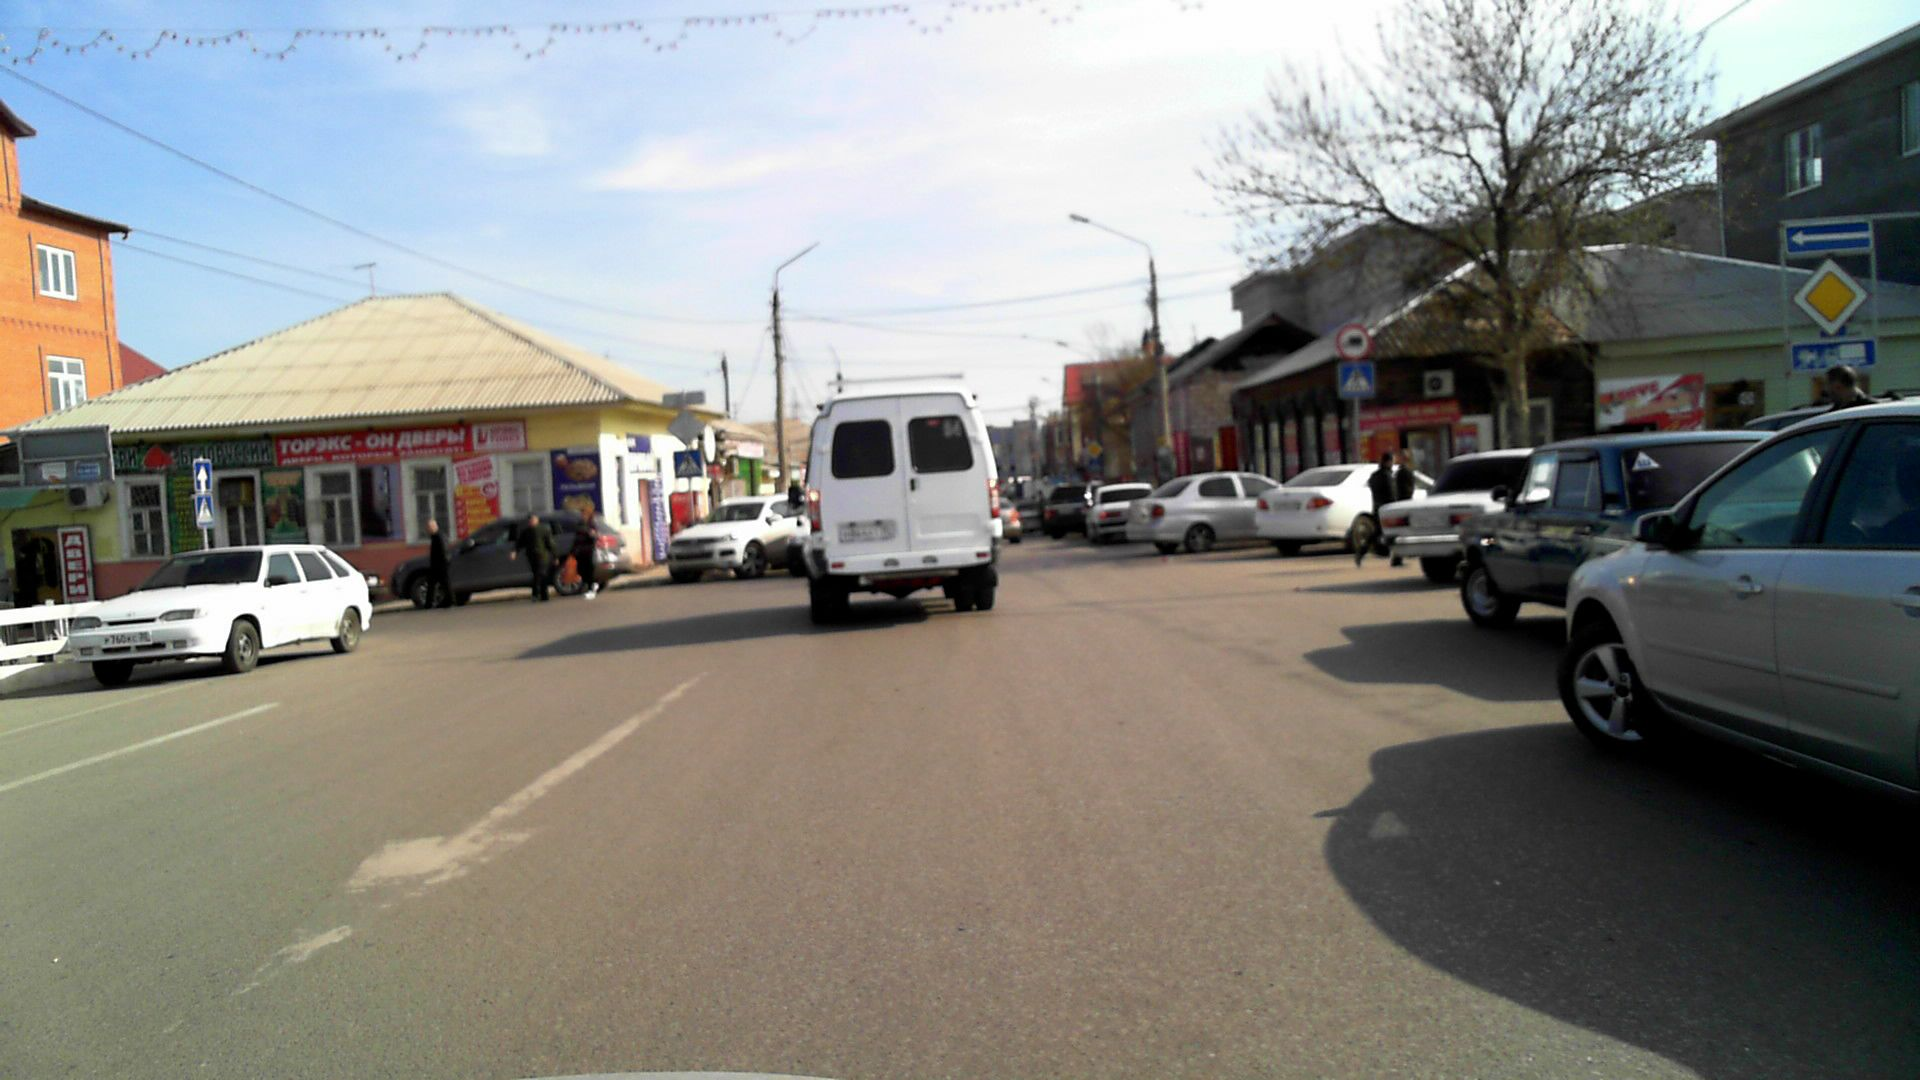One-Way Traffic: (1785, 222, 1871, 255)
